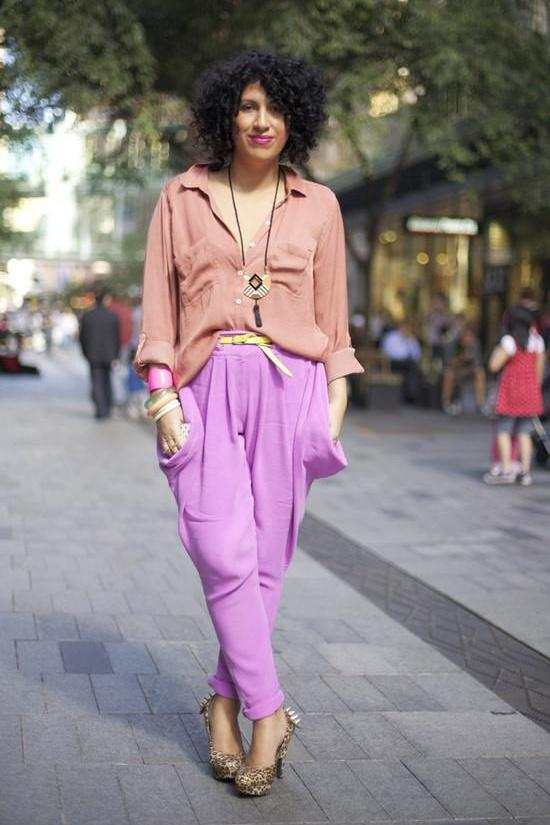pants: (158, 332, 346, 722)
shirt: (135, 160, 366, 384)
